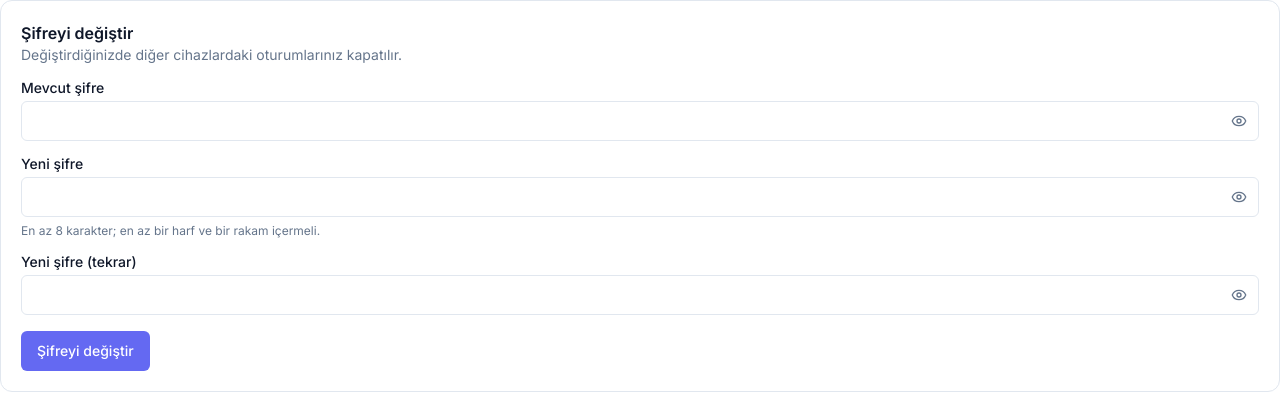
Test: GV-19: ChangePasswordSection › zayıf yeni şifre → alan hatası, API çağrılmaz
This screenshot has width=1280, height=409.
Type "Eski1234" into the password field labelled "Mevcut şifre" at (640, 121), box [21, 101, 1259, 141]
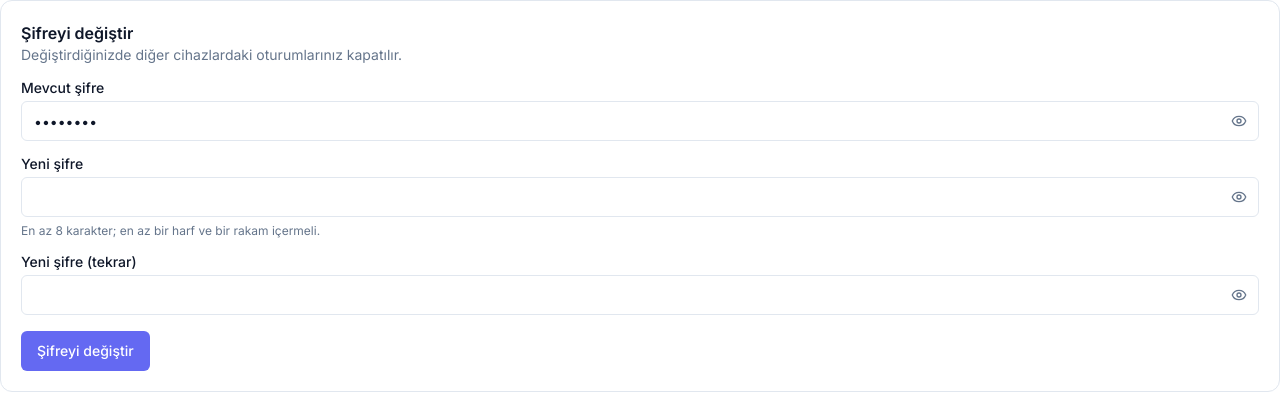
Type "12345678" into the password field labelled "Yeni şifre" at (640, 197), box [21, 177, 1259, 217]
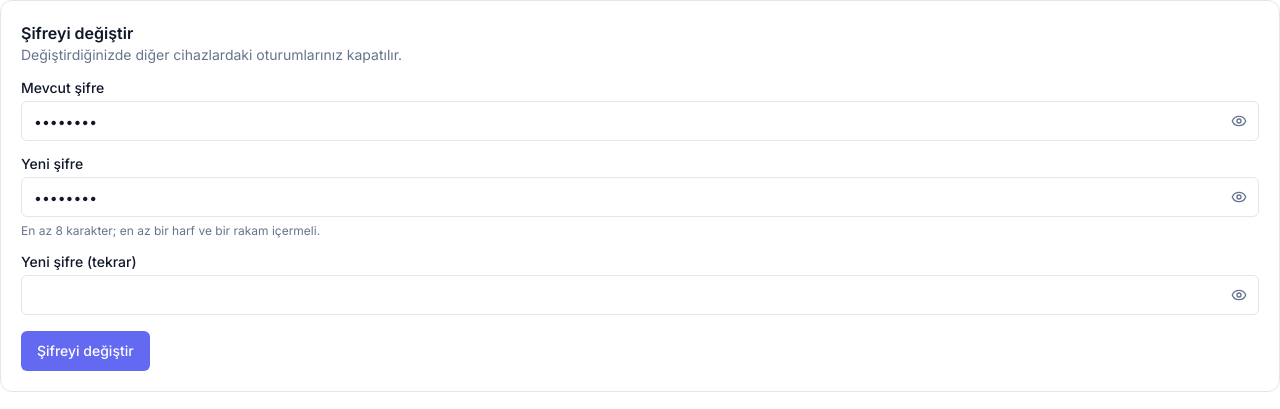
Type "12345678" into the password field labelled "Yeni şifre (tekrar)" at (640, 295), box [21, 275, 1259, 315]
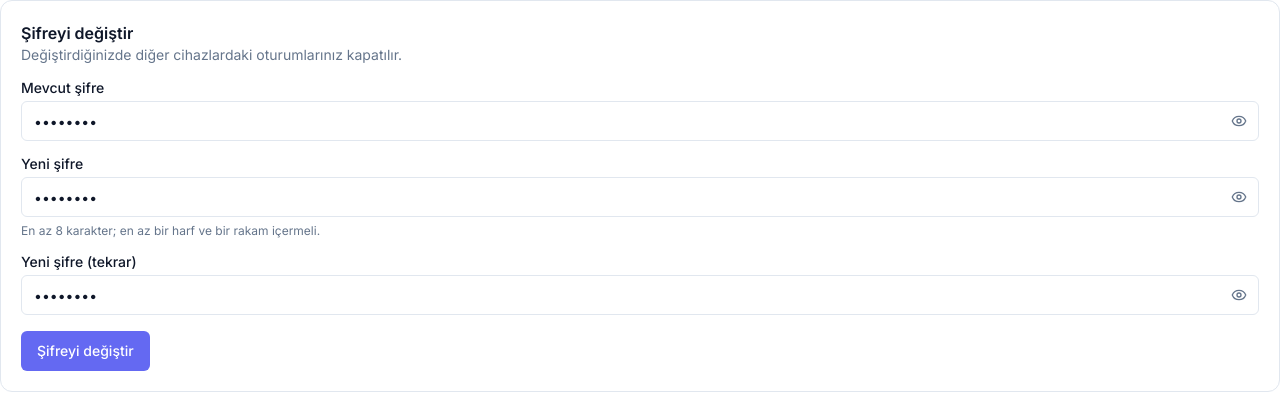
Click the button "Şifreyi değiştir" at (85, 351), box [21, 331, 150, 371]
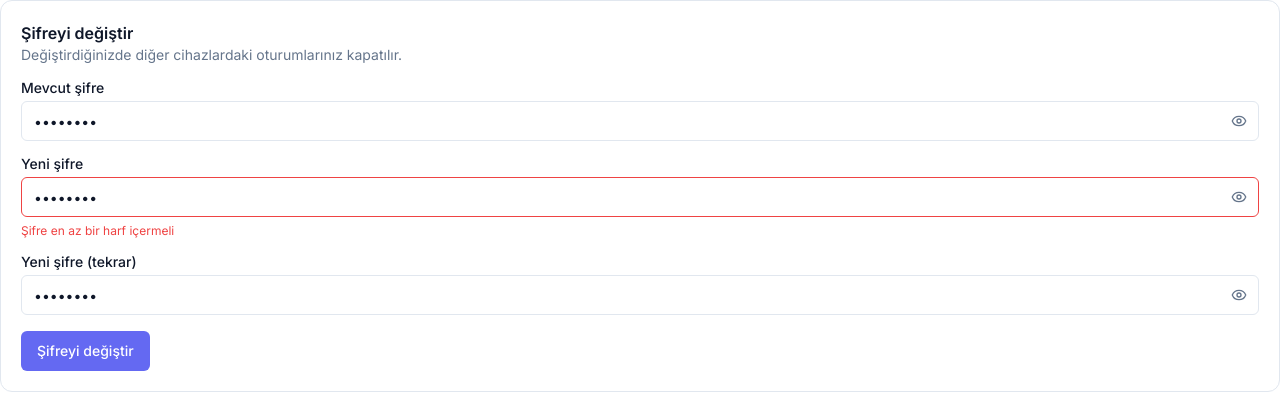
Expected: the text "Şifre en az bir harf içermeli" is shown, [21, 223, 174, 238]
